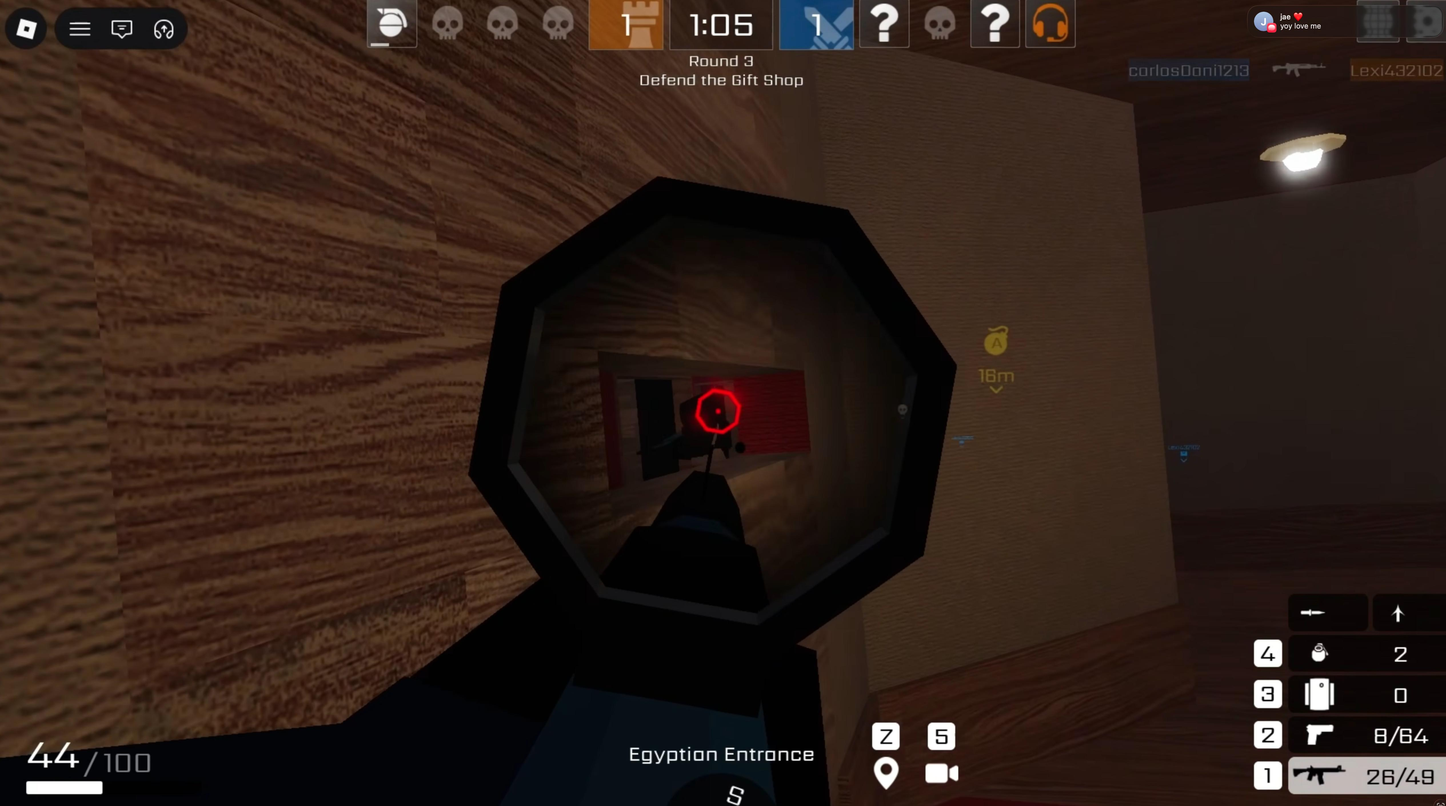enemy: (659, 390, 737, 483)
